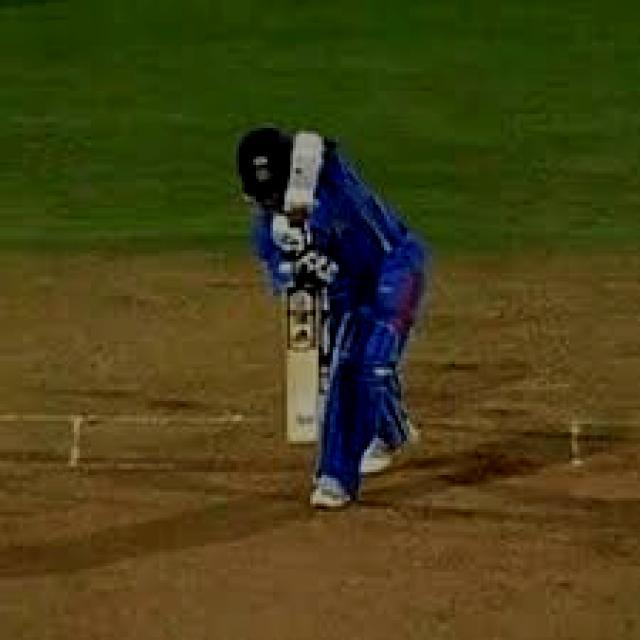bat: (275, 281, 326, 448)
